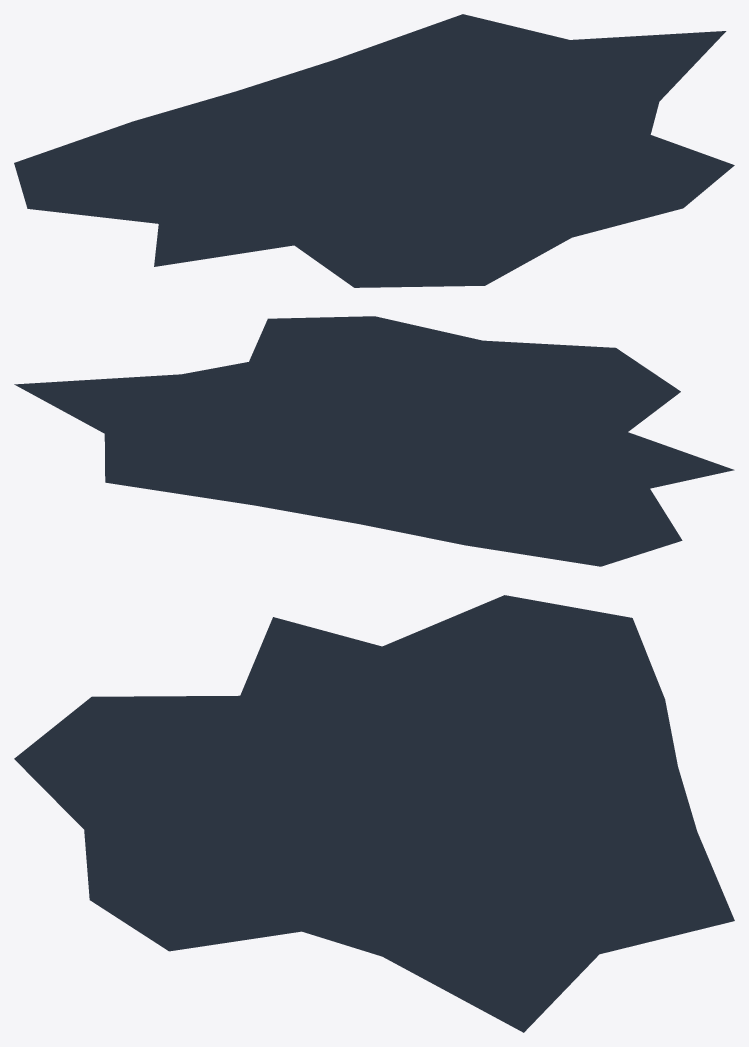
Rendered from puddle_c.glb.
3 renders of one model, top to bottom at view 1: azimuth 30°, elevation 25°; view 2: azimuth 150°, elevation 25°; view 3: azimuth 270°, elevation 25°, orthographic. The views are drawn at different scales.
Visible parts, largest first — view 1: puddle_c; view 2: puddle_c; view 3: puddle_c.
Part boxes in pixels (x1,y1,x2,y2): puddle_c: (14, 14, 734, 287); puddle_c: (14, 316, 734, 566); puddle_c: (14, 595, 734, 1032).
Size of the model in its own units: 7.45 by 0 by 5.18.
